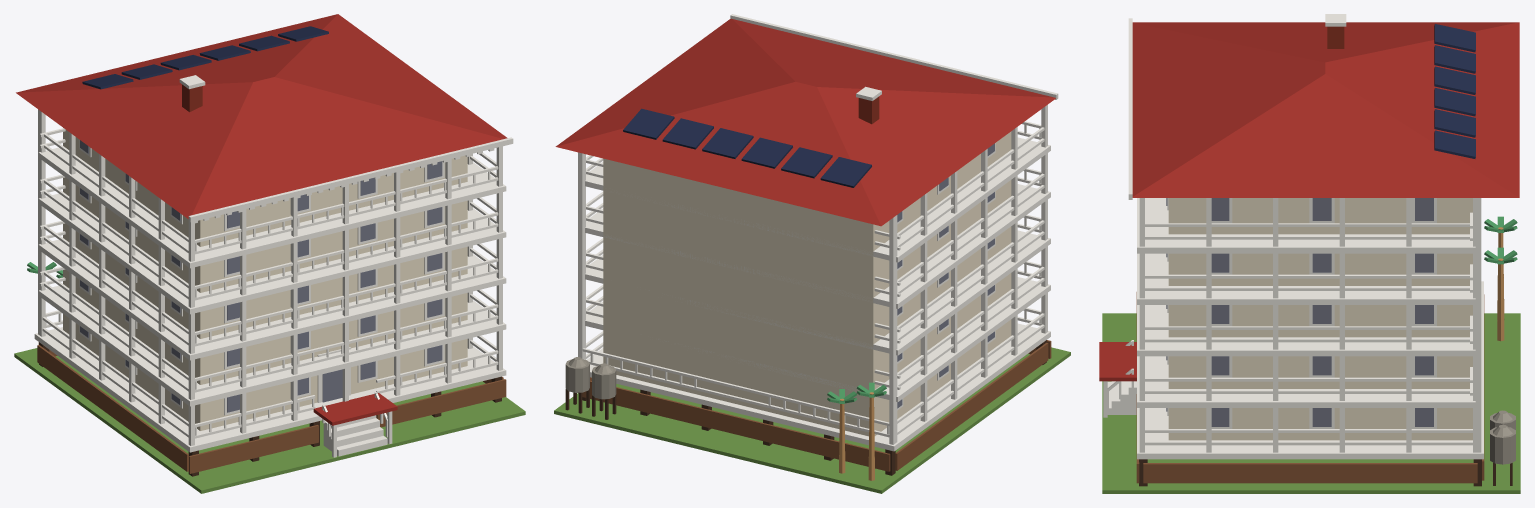
The model's file is house-2x2-5f-queenslander-a-solar.glb.
3 renders of one model, left to right at view 1: azimuth 30°, elevation 25°; view 2: azimuth 150°, elevation 25°; view 3: azimuth 270°, elevation 25°, orthographic. The views are drawn at different scales.
Parts seen in each view (by area): view 1: house-2x2-5f-queenslander-a-solar; view 2: house-2x2-5f-queenslander-a-solar; view 3: house-2x2-5f-queenslander-a-solar.
Part boxes in pixels (box(x1,y1,x2,y2)): house-2x2-5f-queenslander-a-solar: box(14, 14, 525, 493); house-2x2-5f-queenslander-a-solar: box(554, 14, 1070, 493); house-2x2-5f-queenslander-a-solar: box(1099, 14, 1520, 493).
Size of the model in its own units: 1.99 by 1.84 by 2.
Materials: 1 (1 with a texture image).
